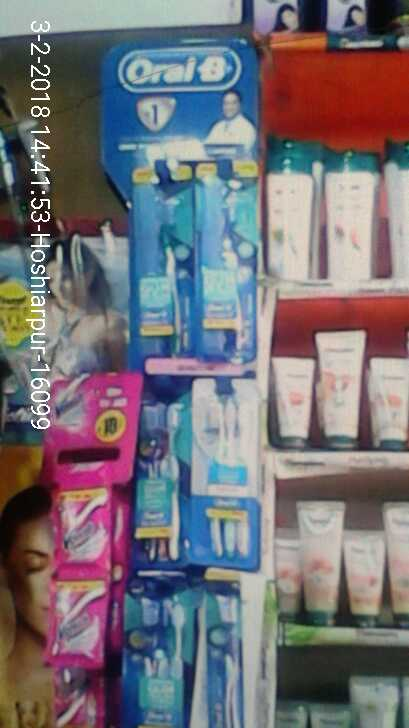oralb: (196, 380, 258, 567), (136, 180, 196, 367), (198, 567, 264, 728), (199, 176, 256, 362), (135, 389, 192, 574), (123, 587, 187, 728)
